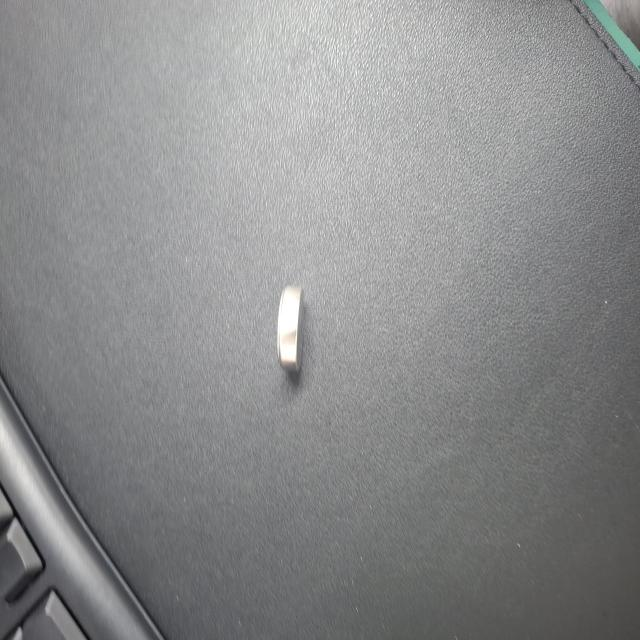COIN: (214, 448, 280, 484)
